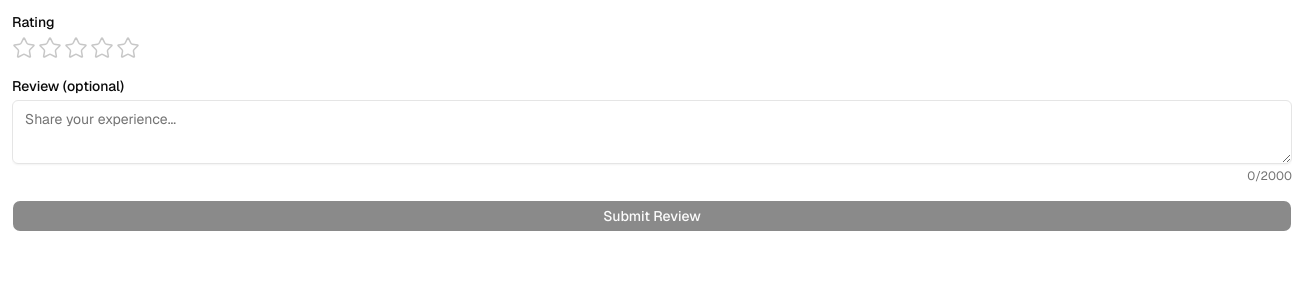
Test case: ReviewForm › shows server error message on 400 response
Click the button named "Rate 2 out of 5 stars". click: (50, 48)
box: [38,36,62,60]
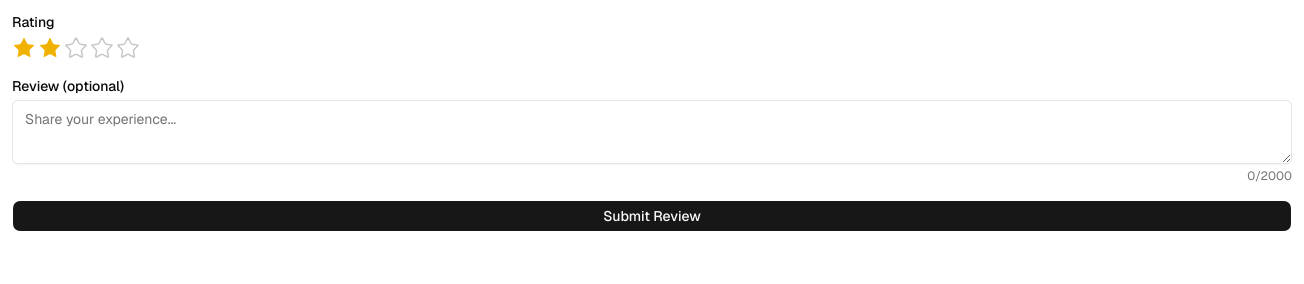
Click the button "Submit Review". click: (652, 216)
box: [12,200,1292,232]
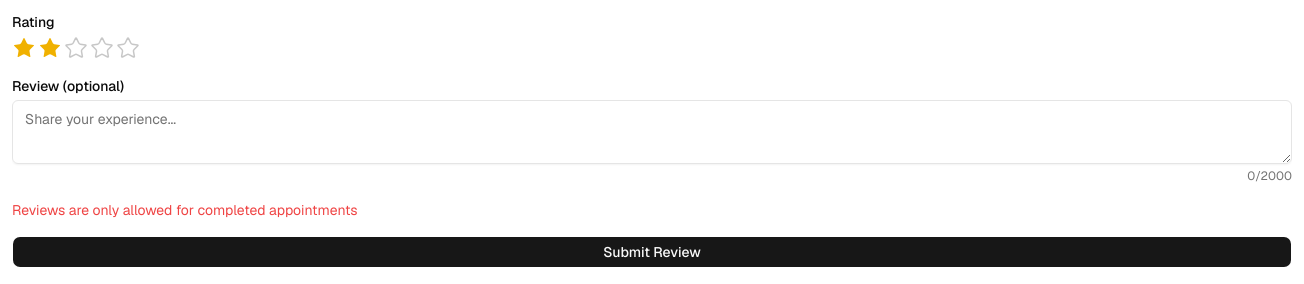
expect the text "Reviews are only allowed for completed appointments" is shown: met, box [12,201,358,219]
